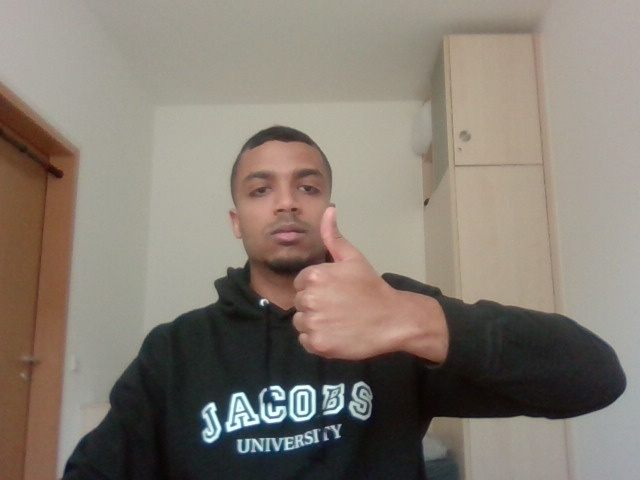perfect: (287, 206, 436, 376)
